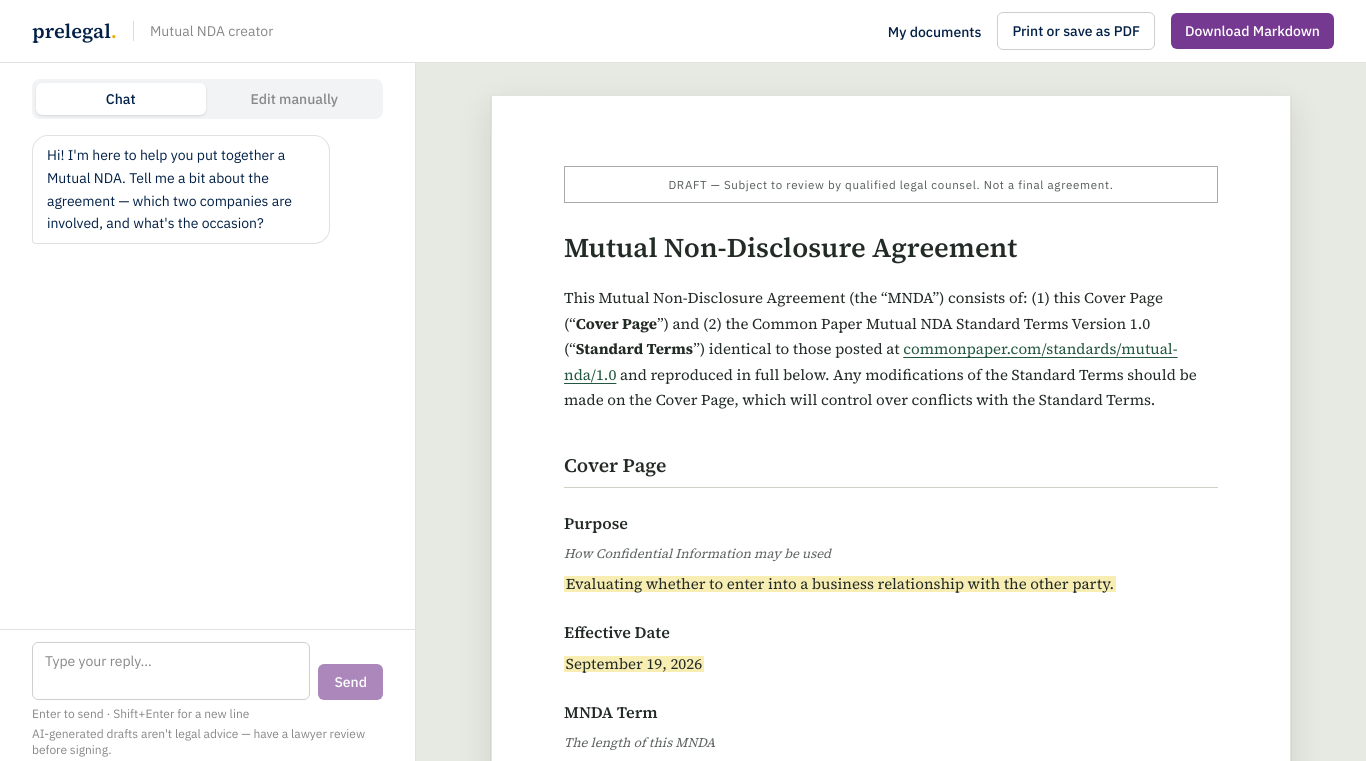
Test: Home page › shows a chosen effective date instead of today
Click the tab "Edit manually". click: [294, 99]
box: top-left (210, 83), bottom-right (379, 115)
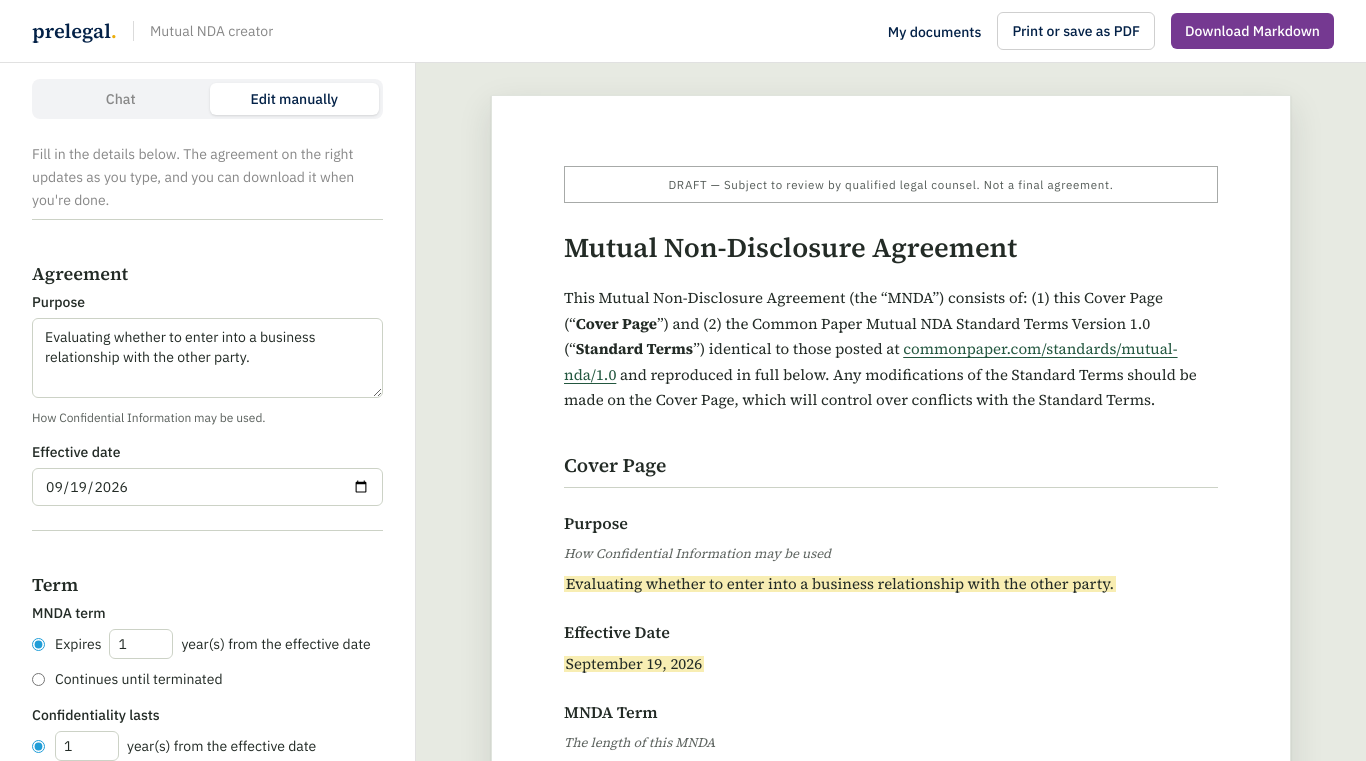
Type "2031-01-02" into the date field labelled "Effective date". click: [208, 487]
box: top-left (32, 468), bottom-right (383, 506)
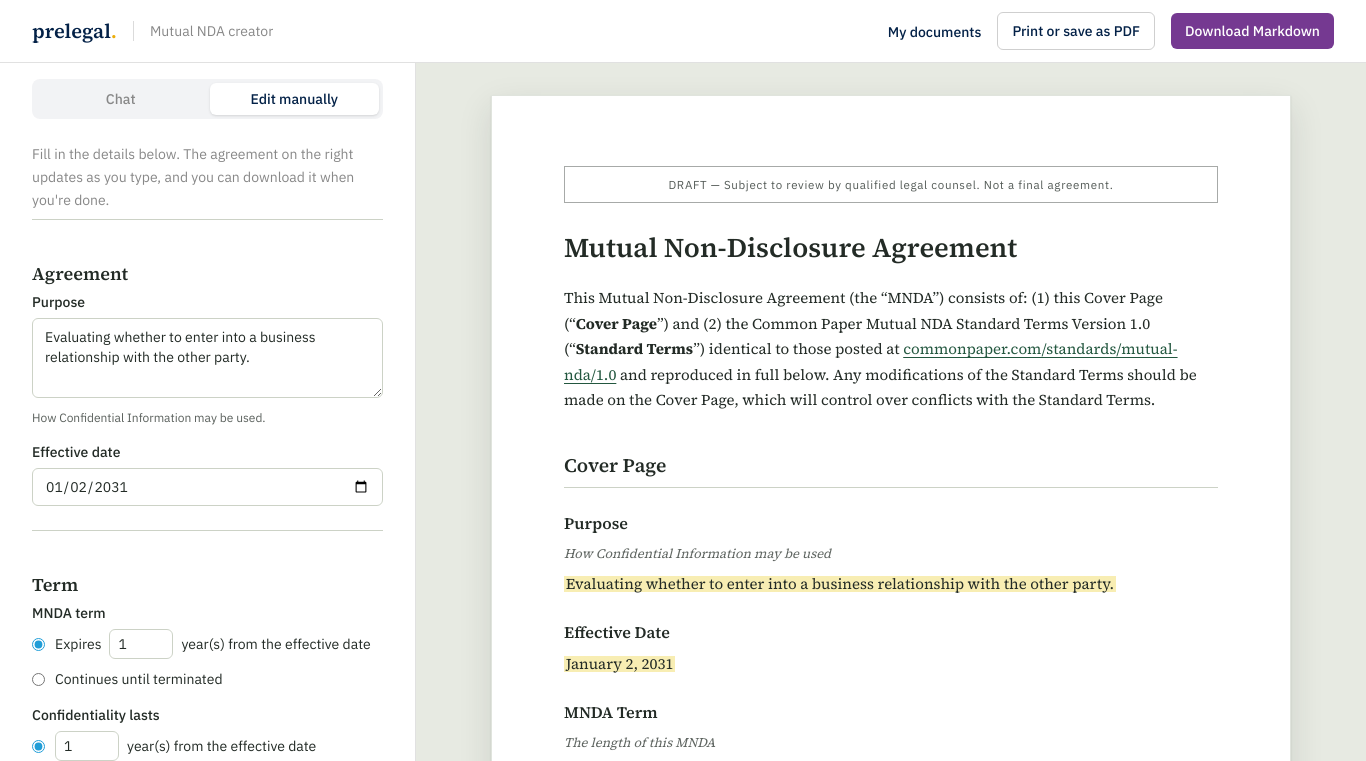
Check: the text "January 2, 2031" is shown, box top-left (564, 653), bottom-right (675, 674)
